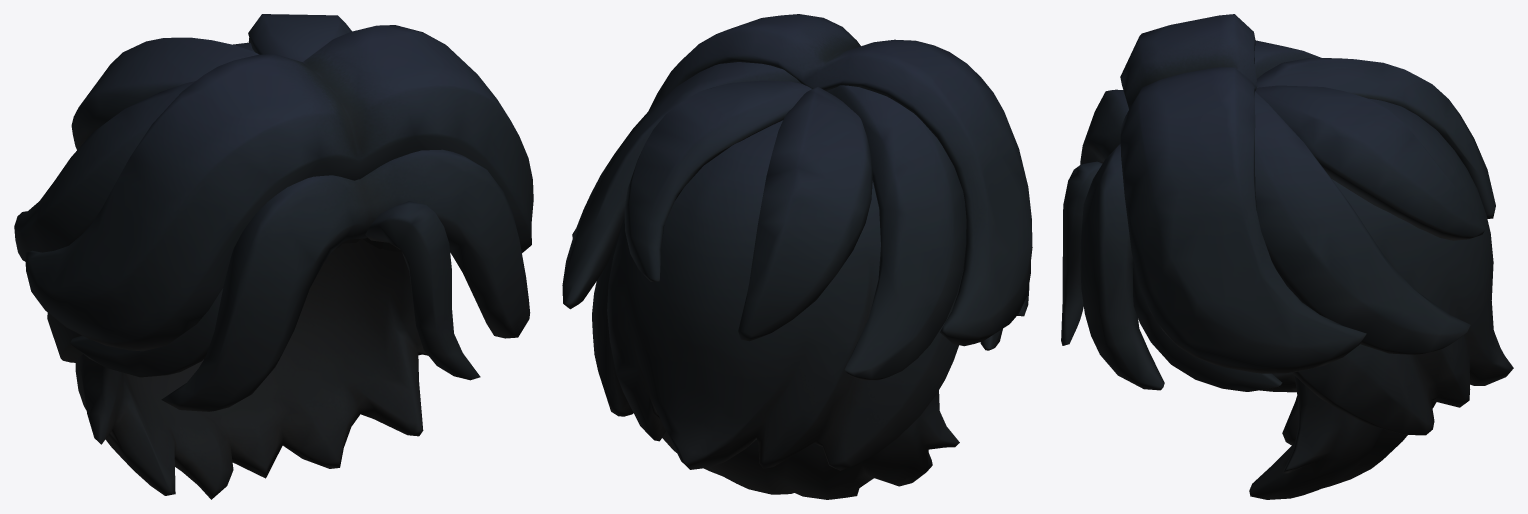
Rendered from SM_HAIR_WavyMiddlePart.fbx.
3 views of the same model, side by side, from view 1: azimuth 30°, elevation 25°; view 2: azimuth 150°, elevation 25°; view 3: azimuth 270°, elevation 25° (orthographic). The views are drawn at different scales.
Parts seen in each view (by area): view 1: HAIR_WavyMiddlePart; view 2: HAIR_WavyMiddlePart; view 3: HAIR_WavyMiddlePart.
Boxes of the visible parts, box(x1,y1,x2,y2) form: HAIR_WavyMiddlePart: box(14, 14, 533, 499); HAIR_WavyMiddlePart: box(562, 14, 1032, 499); HAIR_WavyMiddlePart: box(1061, 14, 1513, 499).
Bounding box in the file's own units: 77.54 × 76.25 × 74.39.
Materials: 1 (1 with a texture image).
